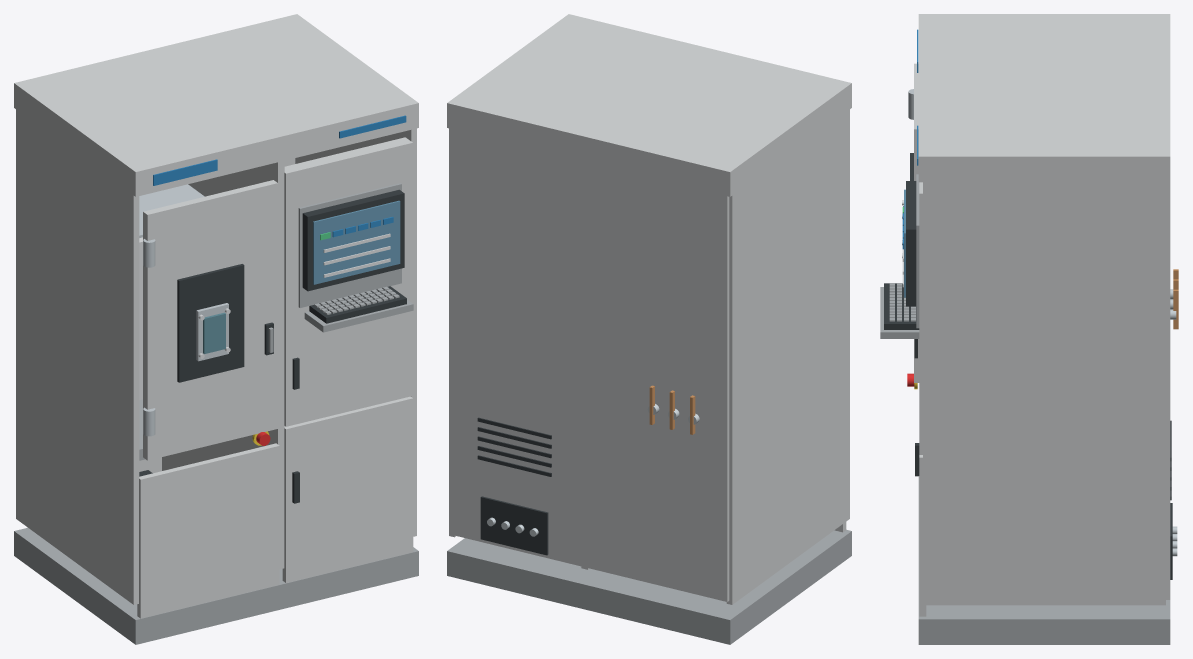
The model's file is pvd75.gltf.
The picture shows the model from 3 angles, left to right: view 1: azimuth 30°, elevation 25°; view 2: azimuth 150°, elevation 25°; view 3: azimuth 270°, elevation 25°; orthographic projection. The views are drawn at different scales.
Visible parts, largest first — view 1: left_outer_side, top_header, outer_door, right_console_front, right_lower_front, left_lower_front, base_plinth, center_partition, door_window_plate, screen_display, screen_bezel, monitor_recess (+8 smaller); view 2: rear_panel, left_outer_side, top_header, base_plinth, rear_power_panel; view 3: right_outer_side, top_header, base_plinth, rear_panel, screen_bezel, right_console_front, outer_door, keyboard, right_lower_front, monitor_recess, keyboard_shelf.
Boxes of the visible parts, x1,y1,x2,y2 form: left_outer_side: (16, 109, 139, 604); top_header: (14, 14, 418, 196); outer_door: (143, 180, 277, 460); right_console_front: (284, 137, 413, 426); right_lower_front: (282, 396, 413, 582); left_lower_front: (137, 443, 279, 618); base_plinth: (14, 527, 418, 644); center_partition: (162, 160, 284, 569); door_window_plate: (177, 264, 244, 382); screen_display: (313, 200, 400, 284); screen_bezel: (302, 189, 404, 291); monitor_recess: (298, 183, 401, 307); rear_panel: (450, 127, 729, 601); left_outer_side: (726, 109, 849, 604); top_header: (447, 14, 851, 196); base_plinth: (447, 529, 851, 644); rear_power_panel: (480, 496, 548, 555); right_outer_side: (923, 182, 1165, 605); top_header: (918, 14, 1170, 182); base_plinth: (918, 477, 1170, 644); rear_panel: (1166, 182, 1170, 599); screen_bezel: (906, 181, 916, 306); right_console_front: (919, 182, 922, 454); outer_door: (914, 63, 919, 382); keyboard: (884, 283, 919, 329); right_lower_front: (919, 455, 926, 616); monitor_recess: (916, 174, 919, 328); keyboard_shelf: (880, 287, 919, 338).
Bounding box in the file's own units: 1.19 × 1.91 × 1.05.
